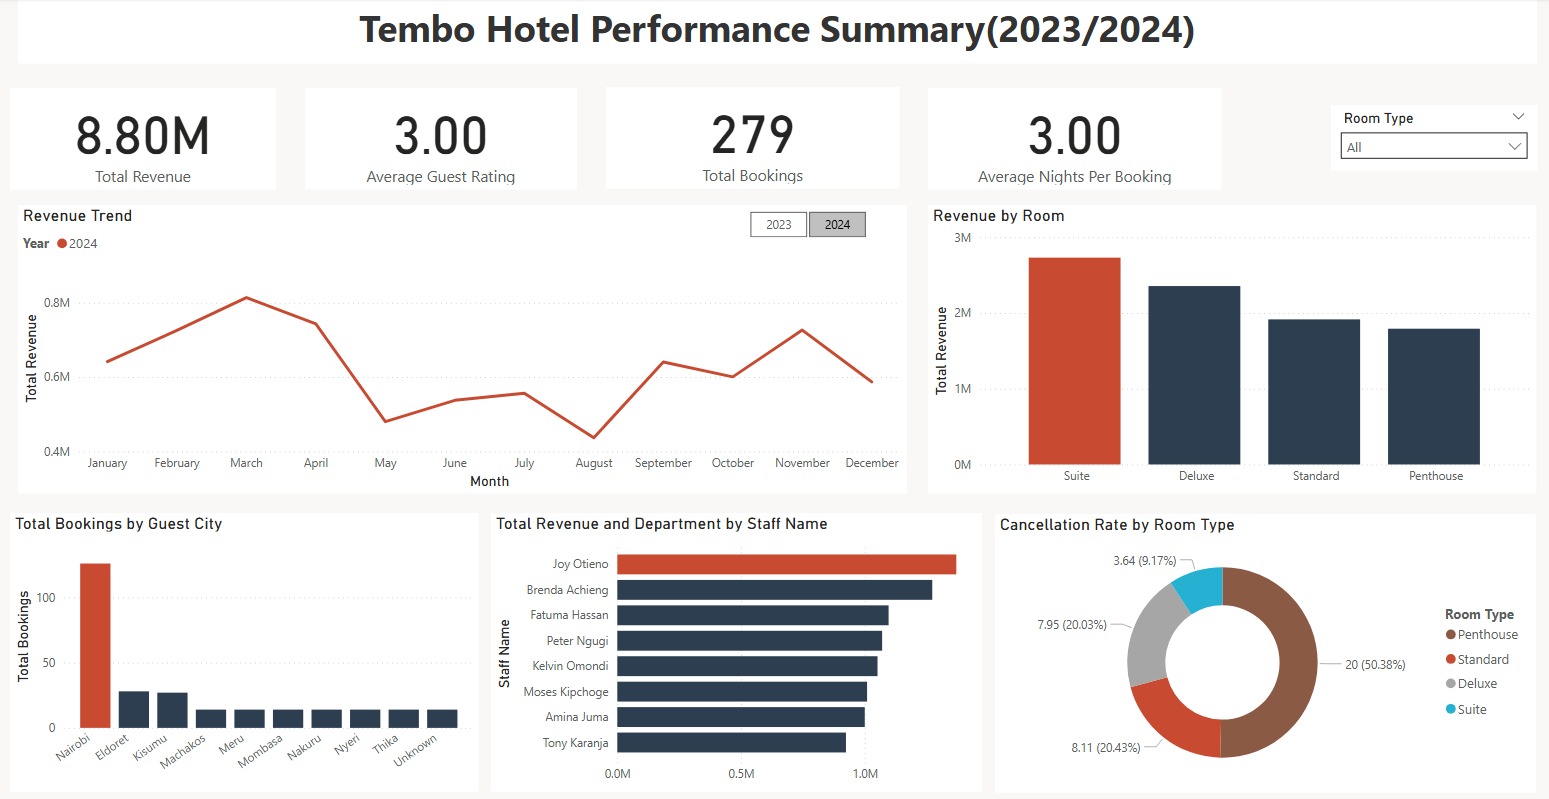

The page's visual inventory and layout, read from the dashboard file:
{"tool":"powerbi","page":{"name":"Page 1","canvas":[1600,820],"ordinal":0},"visuals":[{"type":"card","fields":{"Values":["Sum(tembo_hotel v_room_performance.total_revenue)"]},"box":[22.4,91.8,271.8,103.5],"z":0},{"type":"card","fields":{"Values":["Avg(tembo_hotel v_room_performance.avg_guest_rating)"]},"box":[324.2,91.8,277.6,103.5],"z":1000},{"type":"slicer","fields":{"Values":["tembo_hotel v_room_performance.room_type"]},"box":[1372.9,109.4,210.6,67.1],"z":2000},{"type":"card","fields":{"Values":["Sum(tembo_hotel v_room_performance.total_bookings)"]},"box":[631.7,91.4,299.6,104.1],"z":3000},{"type":"clusteredColumnChart","title":"Revenue by Room","fields":{"Category":["tembo_hotel v_room_performance.room_type"],"Y":["Sum(tembo_hotel v_room_performance.total_revenue)"]},"box":[961.2,211.8,622.4,295.3],"z":4000},{"type":"lineChart","title":"Revenue Trend","fields":{"Category":["tembo_hotel v_monthly_revenue.month.Variation.Date Hierarchy.Month"],"Y":["Sum(tembo_hotel v_monthly_revenue.revenue)"],"Series":["tembo_hotel v_monthly_revenue.month.Variation.Date Hierarchy.Year"]},"box":[30.2,211.3,909.3,295.2],"z":5000,"group":"g1"},{"type":"donutChart","title":"Cancellation Rate by Room Type","fields":{"Category":["tembo_hotel v_cancellation_analysis.room_type"],"Y":["Sum(tembo_hotel v_cancellation_analysis.cancellation_rate_pct)"]},"box":[1029.6,527.2,553.1,284.6],"z":5000},{"type":"clusteredBarChart","fields":{"Category":["tembo_hotel v_staff_performance.staff_name"],"Y":["Sum(tembo_hotel v_staff_performance.total_revenue)"]},"box":[514.7,527.1,502.4,284.7],"z":6000},{"type":"clusteredColumnChart","title":"Total Bookings by Guest City","fields":{"Category":["tembo_hotel v_guest_insights.guest_city"],"Y":["Sum(tembo_hotel v_guest_insights.total_bookings)"]},"box":[22.4,527.1,478.8,284.7],"z":7000},{"type":"textbox","box":[30.7,0,1553.1,67.5],"z":8000},{"type":"group","id":"g1","title":"Group 1","box":[30.2,211.3,908.9,295.4],"z":9000},{"type":"card","fields":{"Values":["Avg(tembo_hotel v_room_performance.avg_night_per_booking)"]},"box":[961.2,91.8,300,103.5],"z":10000},{"type":"slicer","fields":{"Values":["tembo_hotel v_monthly_revenue.month.Variation.Date Hierarchy.Year"]},"box":[753.4,211.3,168.1,33.4],"z":11500,"group":"g1"}]}

Visuals, with their boxes in screenshot pixels (x1, y1, x2, y2), scaled from the page's 1600x820 canvas onto the 1549x799 screenshot:
card - Sum(tembo_hotel v_room_performance.total_revenue): [22, 89, 285, 190]
card - Avg(tembo_hotel v_room_performance.avg_guest_rating): [314, 89, 583, 190]
slicer - tembo_hotel v_room_performance.room_type: [1329, 107, 1533, 172]
card - Sum(tembo_hotel v_room_performance.total_bookings): [612, 89, 902, 190]
"Revenue by Room" clusteredColumnChart: [931, 206, 1533, 494]
"Revenue Trend" lineChart: [29, 206, 910, 494]
"Cancellation Rate by Room Type" donutChart: [997, 514, 1532, 791]
clusteredBarChart - tembo_hotel v_staff_performance.staff_name x Sum(tembo_hotel v_staff_performance.total_revenue): [498, 514, 985, 791]
"Total Bookings by Guest City" clusteredColumnChart: [22, 514, 485, 791]
textbox: [30, 0, 1533, 66]
"Group 1" group: [29, 206, 909, 494]
card - Avg(tembo_hotel v_room_performance.avg_night_per_booking): [931, 89, 1221, 190]
slicer - tembo_hotel v_monthly_revenue.month.Variation.Date Hierarchy.Year: [729, 206, 892, 238]
